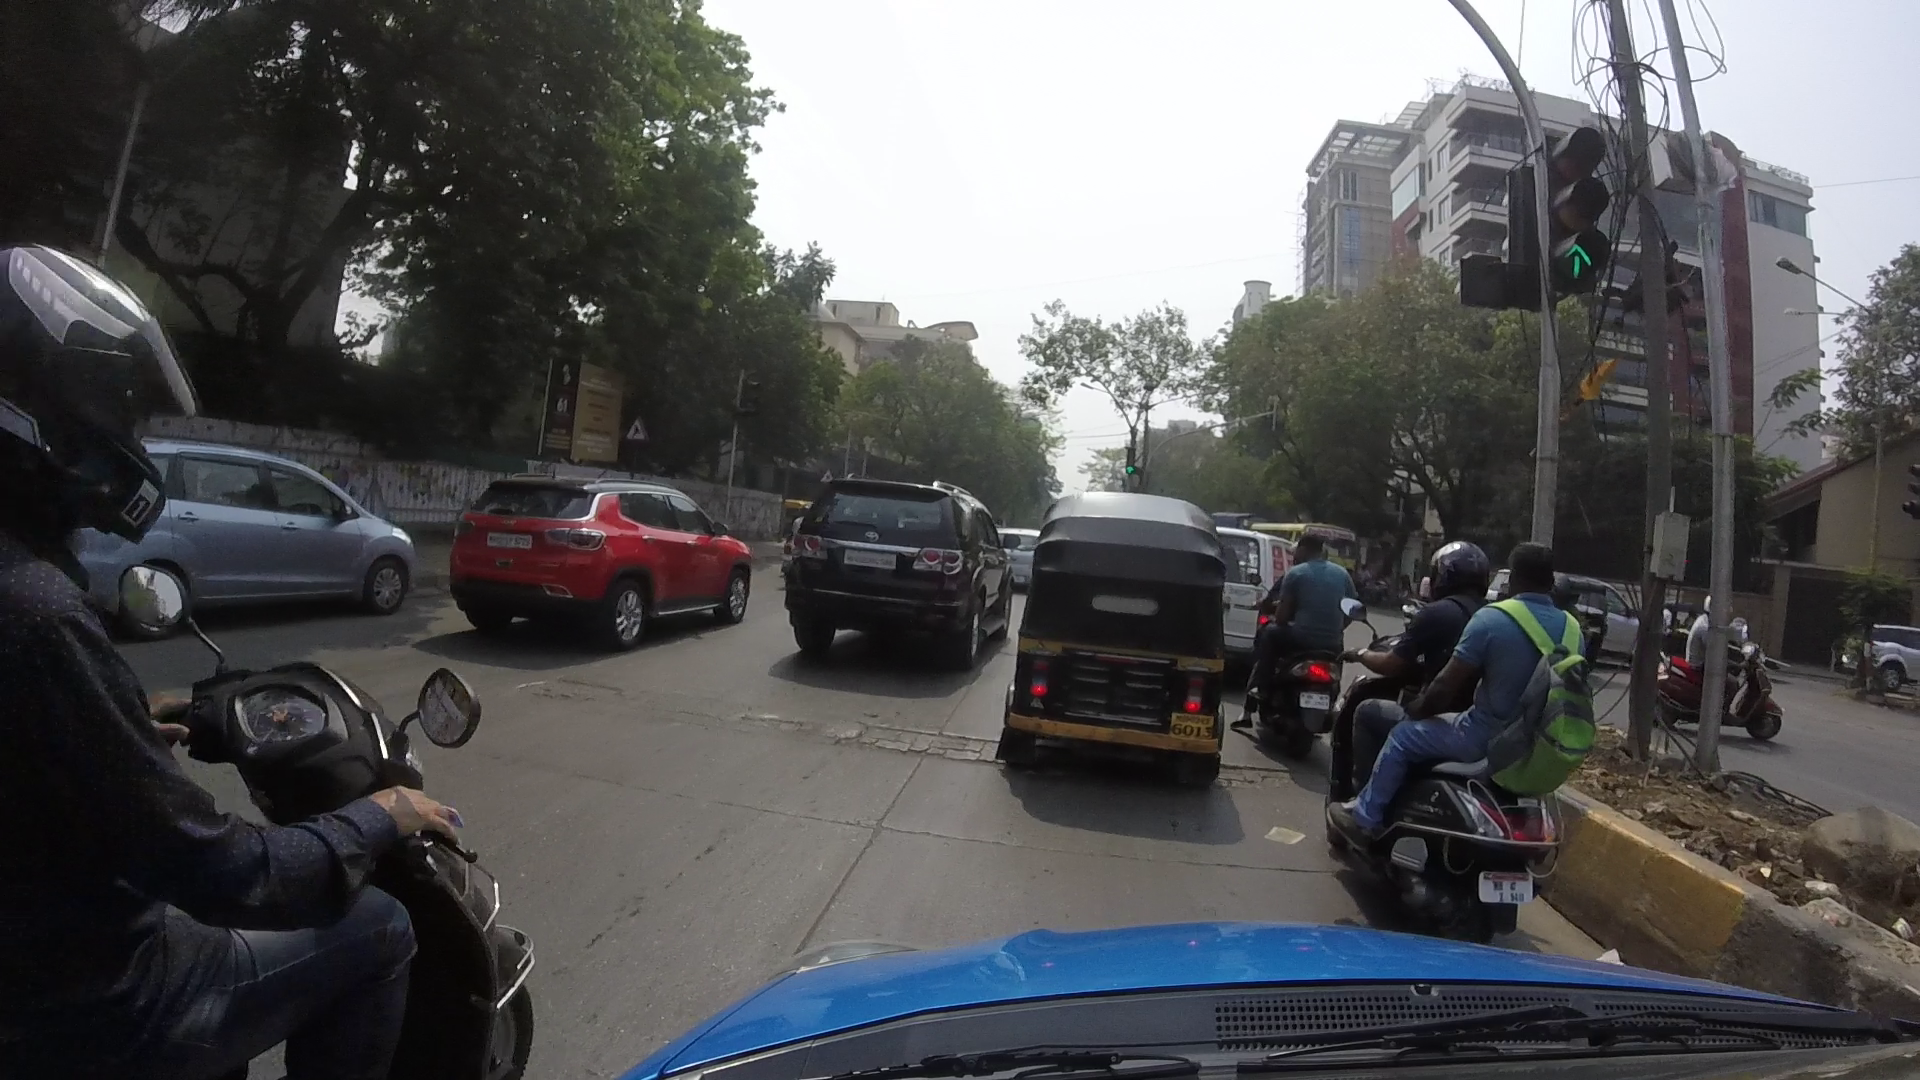bike/scooter: (7, 233, 545, 1075), (1342, 541, 1621, 938), (1240, 522, 1377, 731)
car: (95, 422, 433, 666), (460, 448, 762, 651), (765, 429, 998, 673)
rickshaw: (977, 460, 1247, 798)
